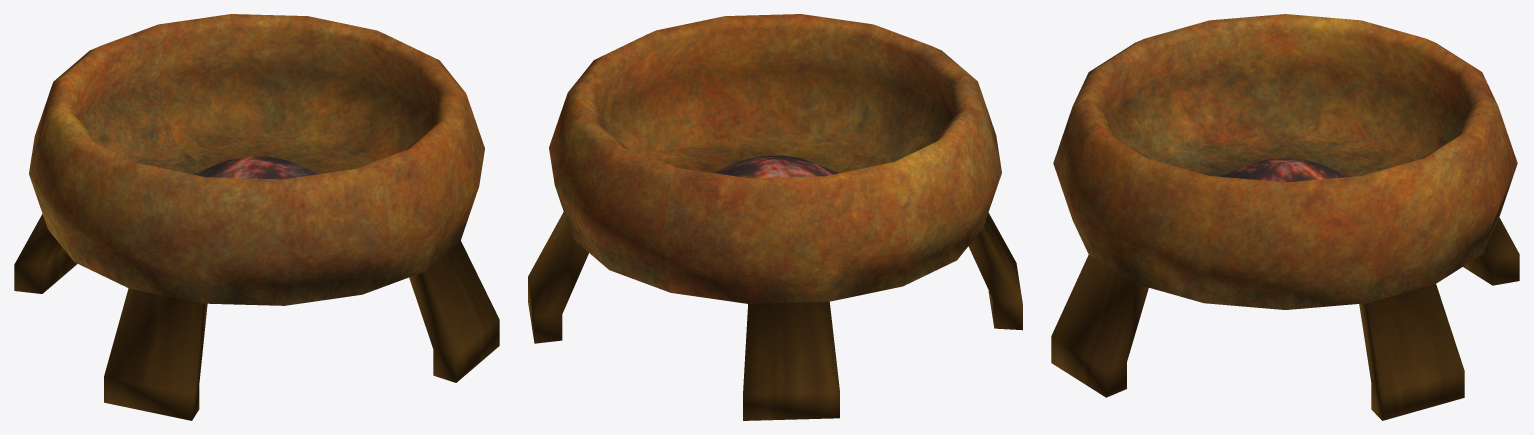
The model's file is Firepit.fbx.
3 views of the same model, side by side, from view 1: azimuth 30°, elevation 25°; view 2: azimuth 150°, elevation 25°; view 3: azimuth 270°, elevation 25° (orthographic).
Parts seen in each view (by area): view 1: Firepit; view 2: Firepit; view 3: Firepit.
Part boxes in pixels (x1,y1,x2,y2): Firepit: (14,14,499,420); Firepit: (528,14,1022,420); Firepit: (1051,14,1519,420).
Bounding box in the file's own units: 3.74 × 1.97 × 3.74.
1 material, 1 textured.
